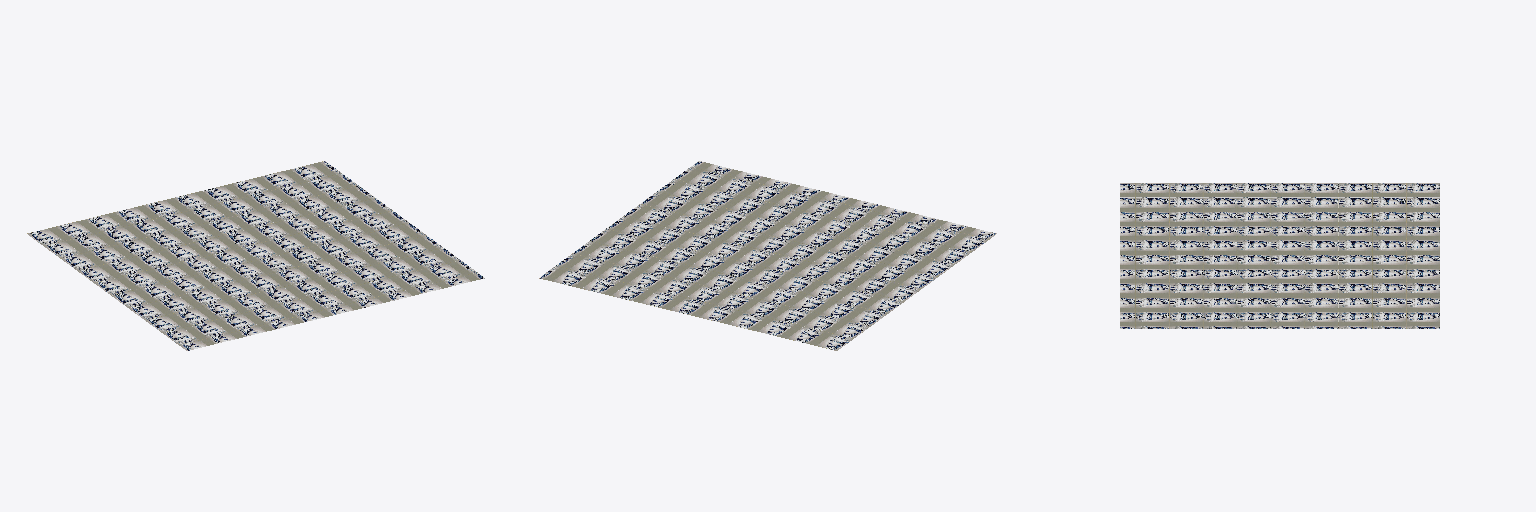
3 views of the same model, side by side, from view 1: azimuth 30°, elevation 25°; view 2: azimuth 150°, elevation 25°; view 3: azimuth 270°, elevation 25° (orthographic).
Size of the model in its own units: 3.06 by 0 by 2.84.
1 materials, 1 textured.